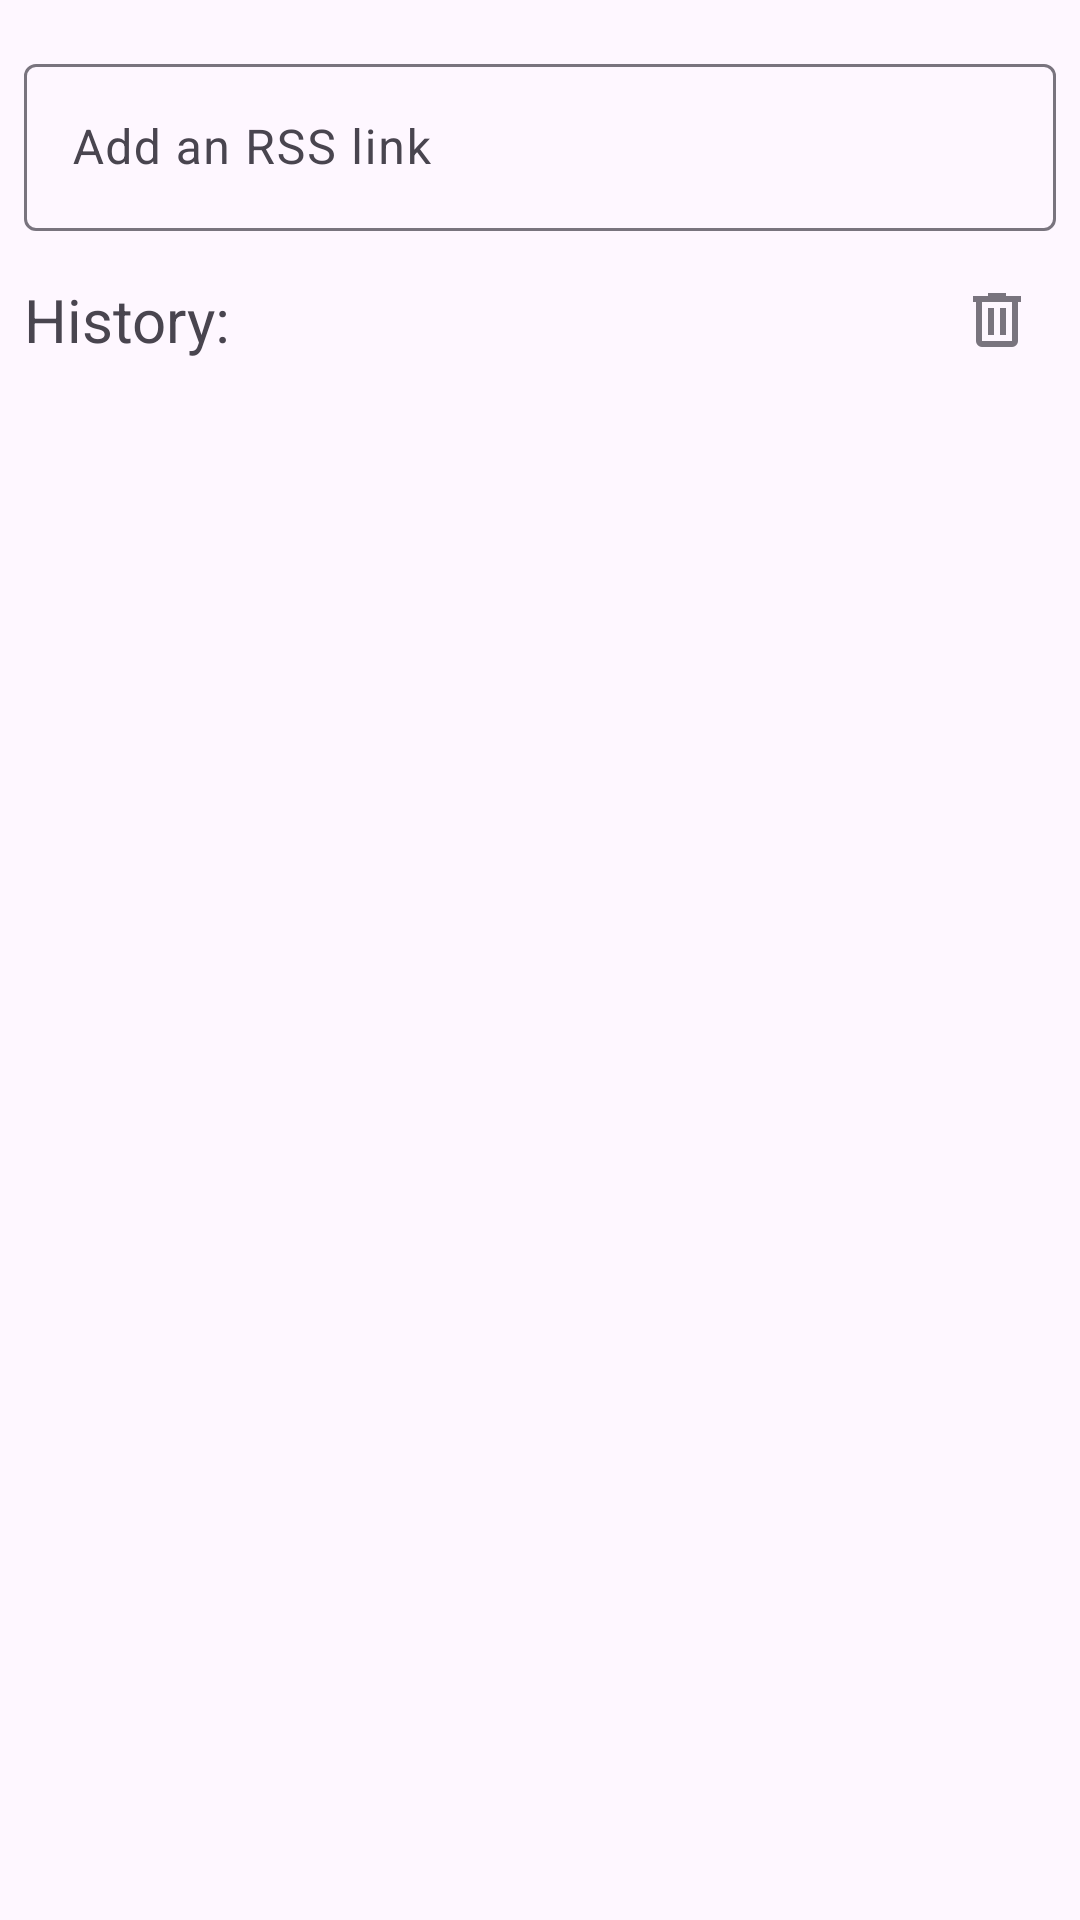

Icons on this 1080×1920 Android screen, each with the point to tap as point (x, y):
Delete all: point (997, 320)
